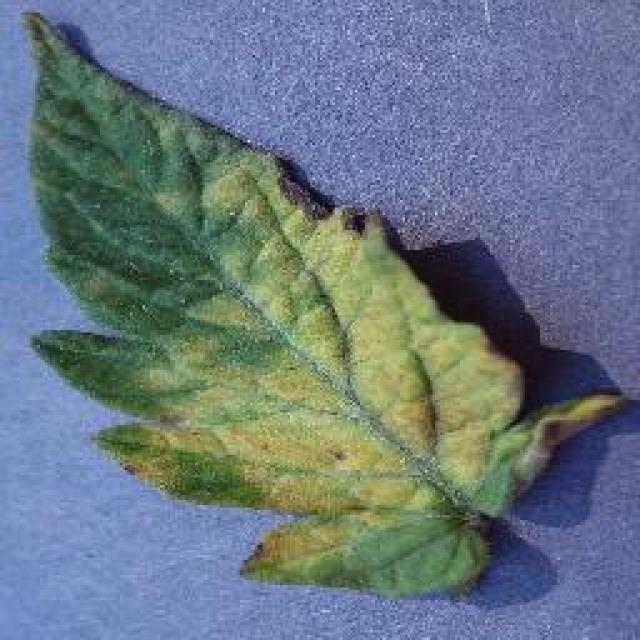Tom_Leaf_Mold: (170, 227, 481, 548)
